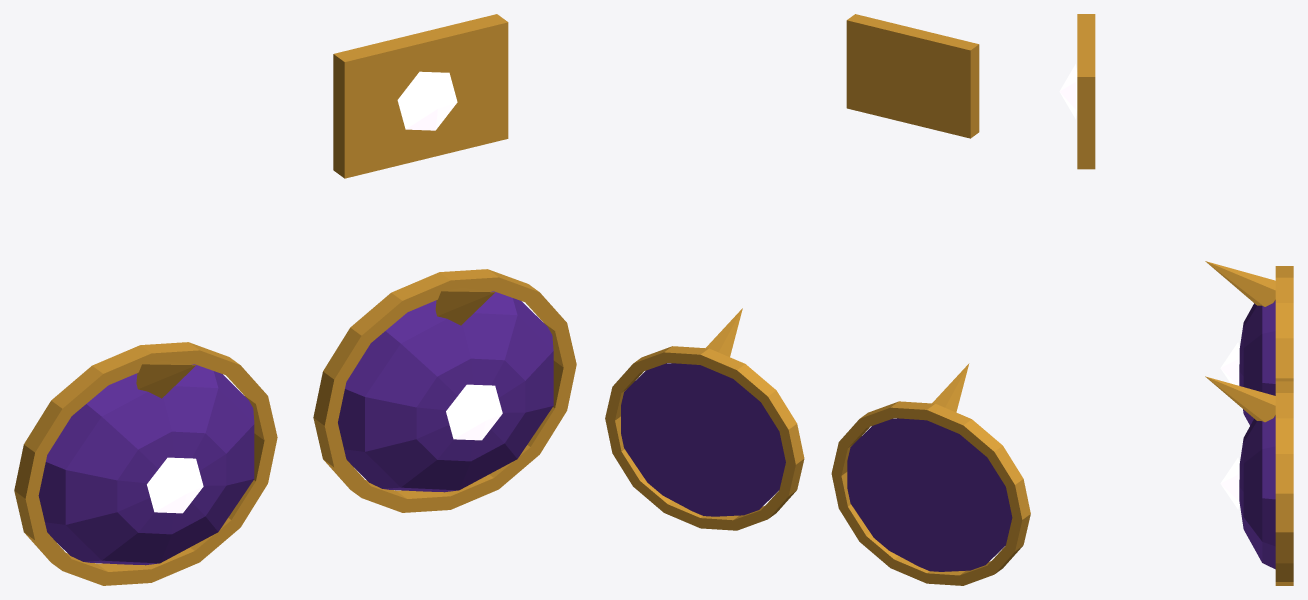
Rendered from armor_guard_legs_epic_human.glb.
3 views of the same model, side by side, from view 1: azimuth 30°, elevation 25°; view 2: azimuth 150°, elevation 25°; view 3: azimuth 270°, elevation 25° (orthographic). The views are drawn at different scales.
Parts seen in each view (by area): view 1: armor_guard_legs_epic_human__calf_l, armor_guard_legs_epic_human__calf_r, armor_guard_legs_epic_human__pelvis; view 2: armor_guard_legs_epic_human__calf_l, armor_guard_legs_epic_human__calf_r, armor_guard_legs_epic_human__pelvis; view 3: armor_guard_legs_epic_human__calf_l, armor_guard_legs_epic_human__calf_r, armor_guard_legs_epic_human__pelvis.
Part boxes in pixels (<box>): armor_guard_legs_epic_human__calf_l: <box>313,269,576,512</box>; armor_guard_legs_epic_human__calf_r: <box>14,342,277,585</box>; armor_guard_legs_epic_human__pelvis: <box>333,14,508,178</box>; armor_guard_legs_epic_human__calf_l: <box>605,308,804,530</box>; armor_guard_legs_epic_human__calf_r: <box>831,363,1030,585</box>; armor_guard_legs_epic_human__pelvis: <box>846,14,979,138</box>; armor_guard_legs_epic_human__calf_l: <box>1205,376,1293,585</box>; armor_guard_legs_epic_human__calf_r: <box>1205,261,1293,425</box>; armor_guard_legs_epic_human__pelvis: <box>1059,14,1095,169</box>.
Bounding box in the file's own units: 33.67 × 34.8 × 15.68.
